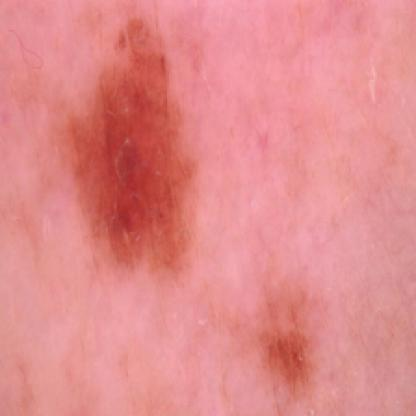benign: (67, 26, 239, 288)
